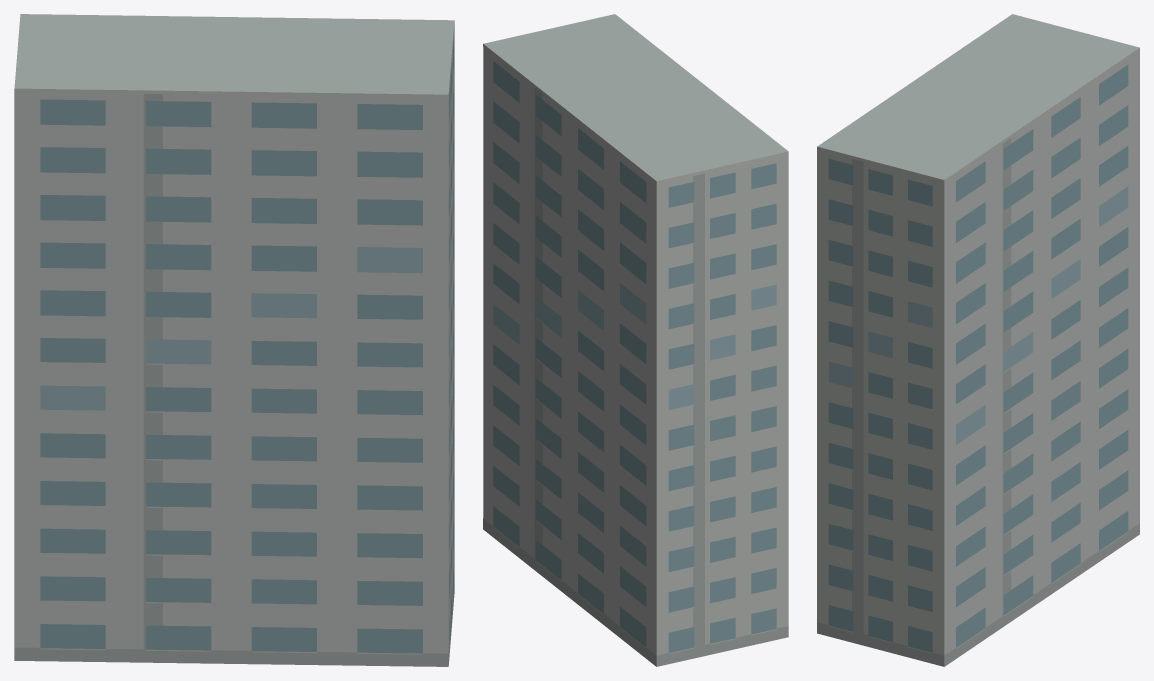
Rendered from residential-1da3702c-6530-4a2f-ad61-08f40e057184.glb.
The picture shows the model from 3 angles, left to right: view 1: azimuth 30°, elevation 25°; view 2: azimuth 150°, elevation 25°; view 3: azimuth 270°, elevation 25°; orthographic projection. The views are drawn at different scales.
Visible parts, largest first — view 1: residential-1da3702c-6530-4a2f-ad61-08f40e057184.tmp; view 2: residential-1da3702c-6530-4a2f-ad61-08f40e057184.tmp; view 3: residential-1da3702c-6530-4a2f-ad61-08f40e057184.tmp.
Part boxes in pixels (x1=…): residential-1da3702c-6530-4a2f-ad61-08f40e057184.tmp: x1=14, y1=14, x2=454, y2=666; residential-1da3702c-6530-4a2f-ad61-08f40e057184.tmp: x1=483, y1=14, x2=788, y2=666; residential-1da3702c-6530-4a2f-ad61-08f40e057184.tmp: x1=817, y1=14, x2=1139, y2=666.
Bounding box in the file's own units: 28.54 × 39 × 23.44.
